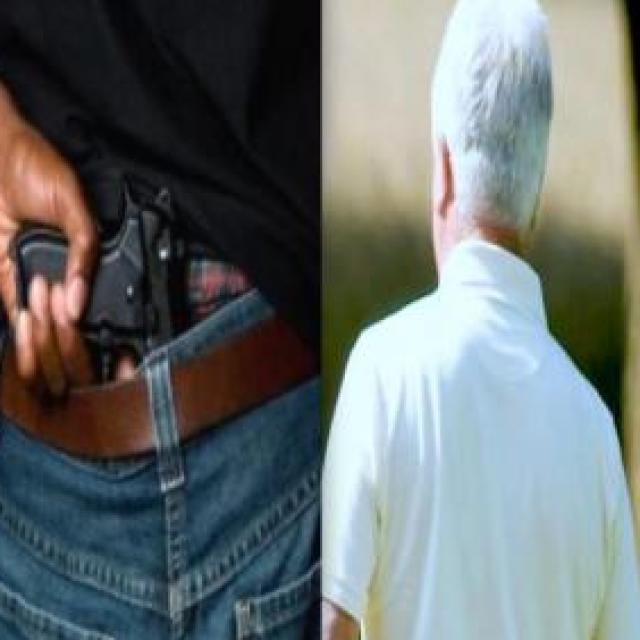pistol: (8, 145, 179, 420)
